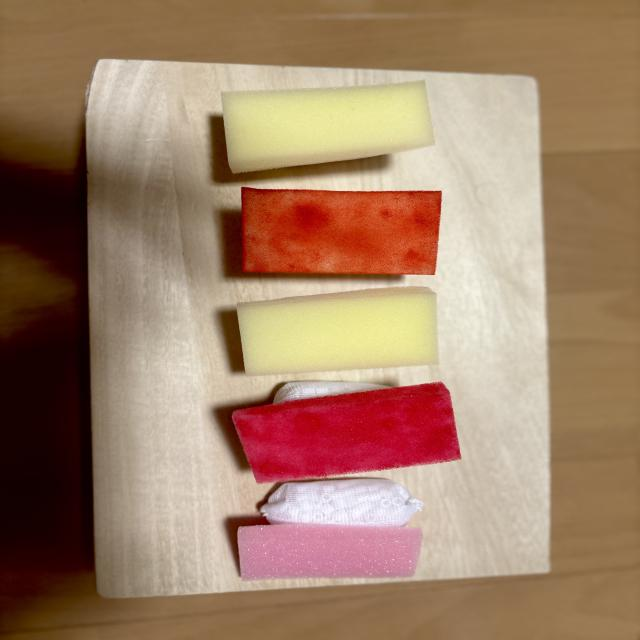NG: (233, 381, 460, 483), (238, 478, 422, 580)
salmon: (242, 187, 441, 274)
tamago: (222, 81, 434, 173), (237, 287, 438, 375)
